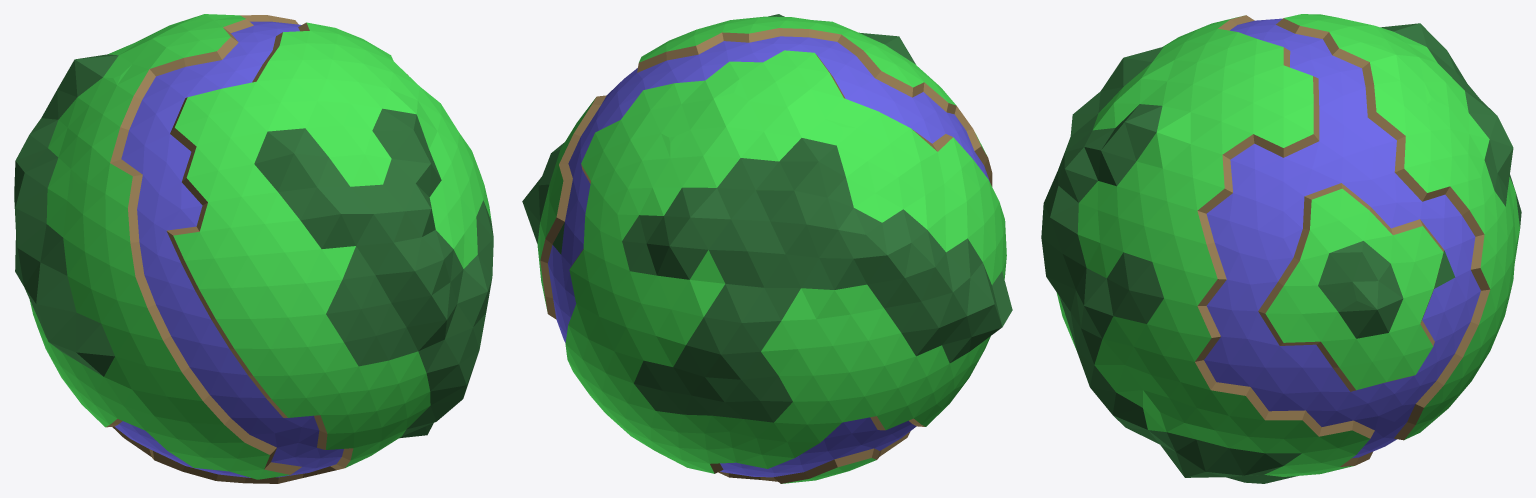
Rendered from mountains-world.glb.
3 views of the same model, side by side, from view 1: azimuth 30°, elevation 25°; view 2: azimuth 150°, elevation 25°; view 3: azimuth 270°, elevation 25° (orthographic).
Parts seen in each view (by area): view 1: World; view 2: World; view 3: World.
Part boxes in pixels (<box>): World: <box>14,14,493,483</box>; World: <box>522,14,1012,483</box>; World: <box>1041,14,1521,483</box>.
Bounding box in the file's own units: 10.48 × 9.96 × 10.33.
